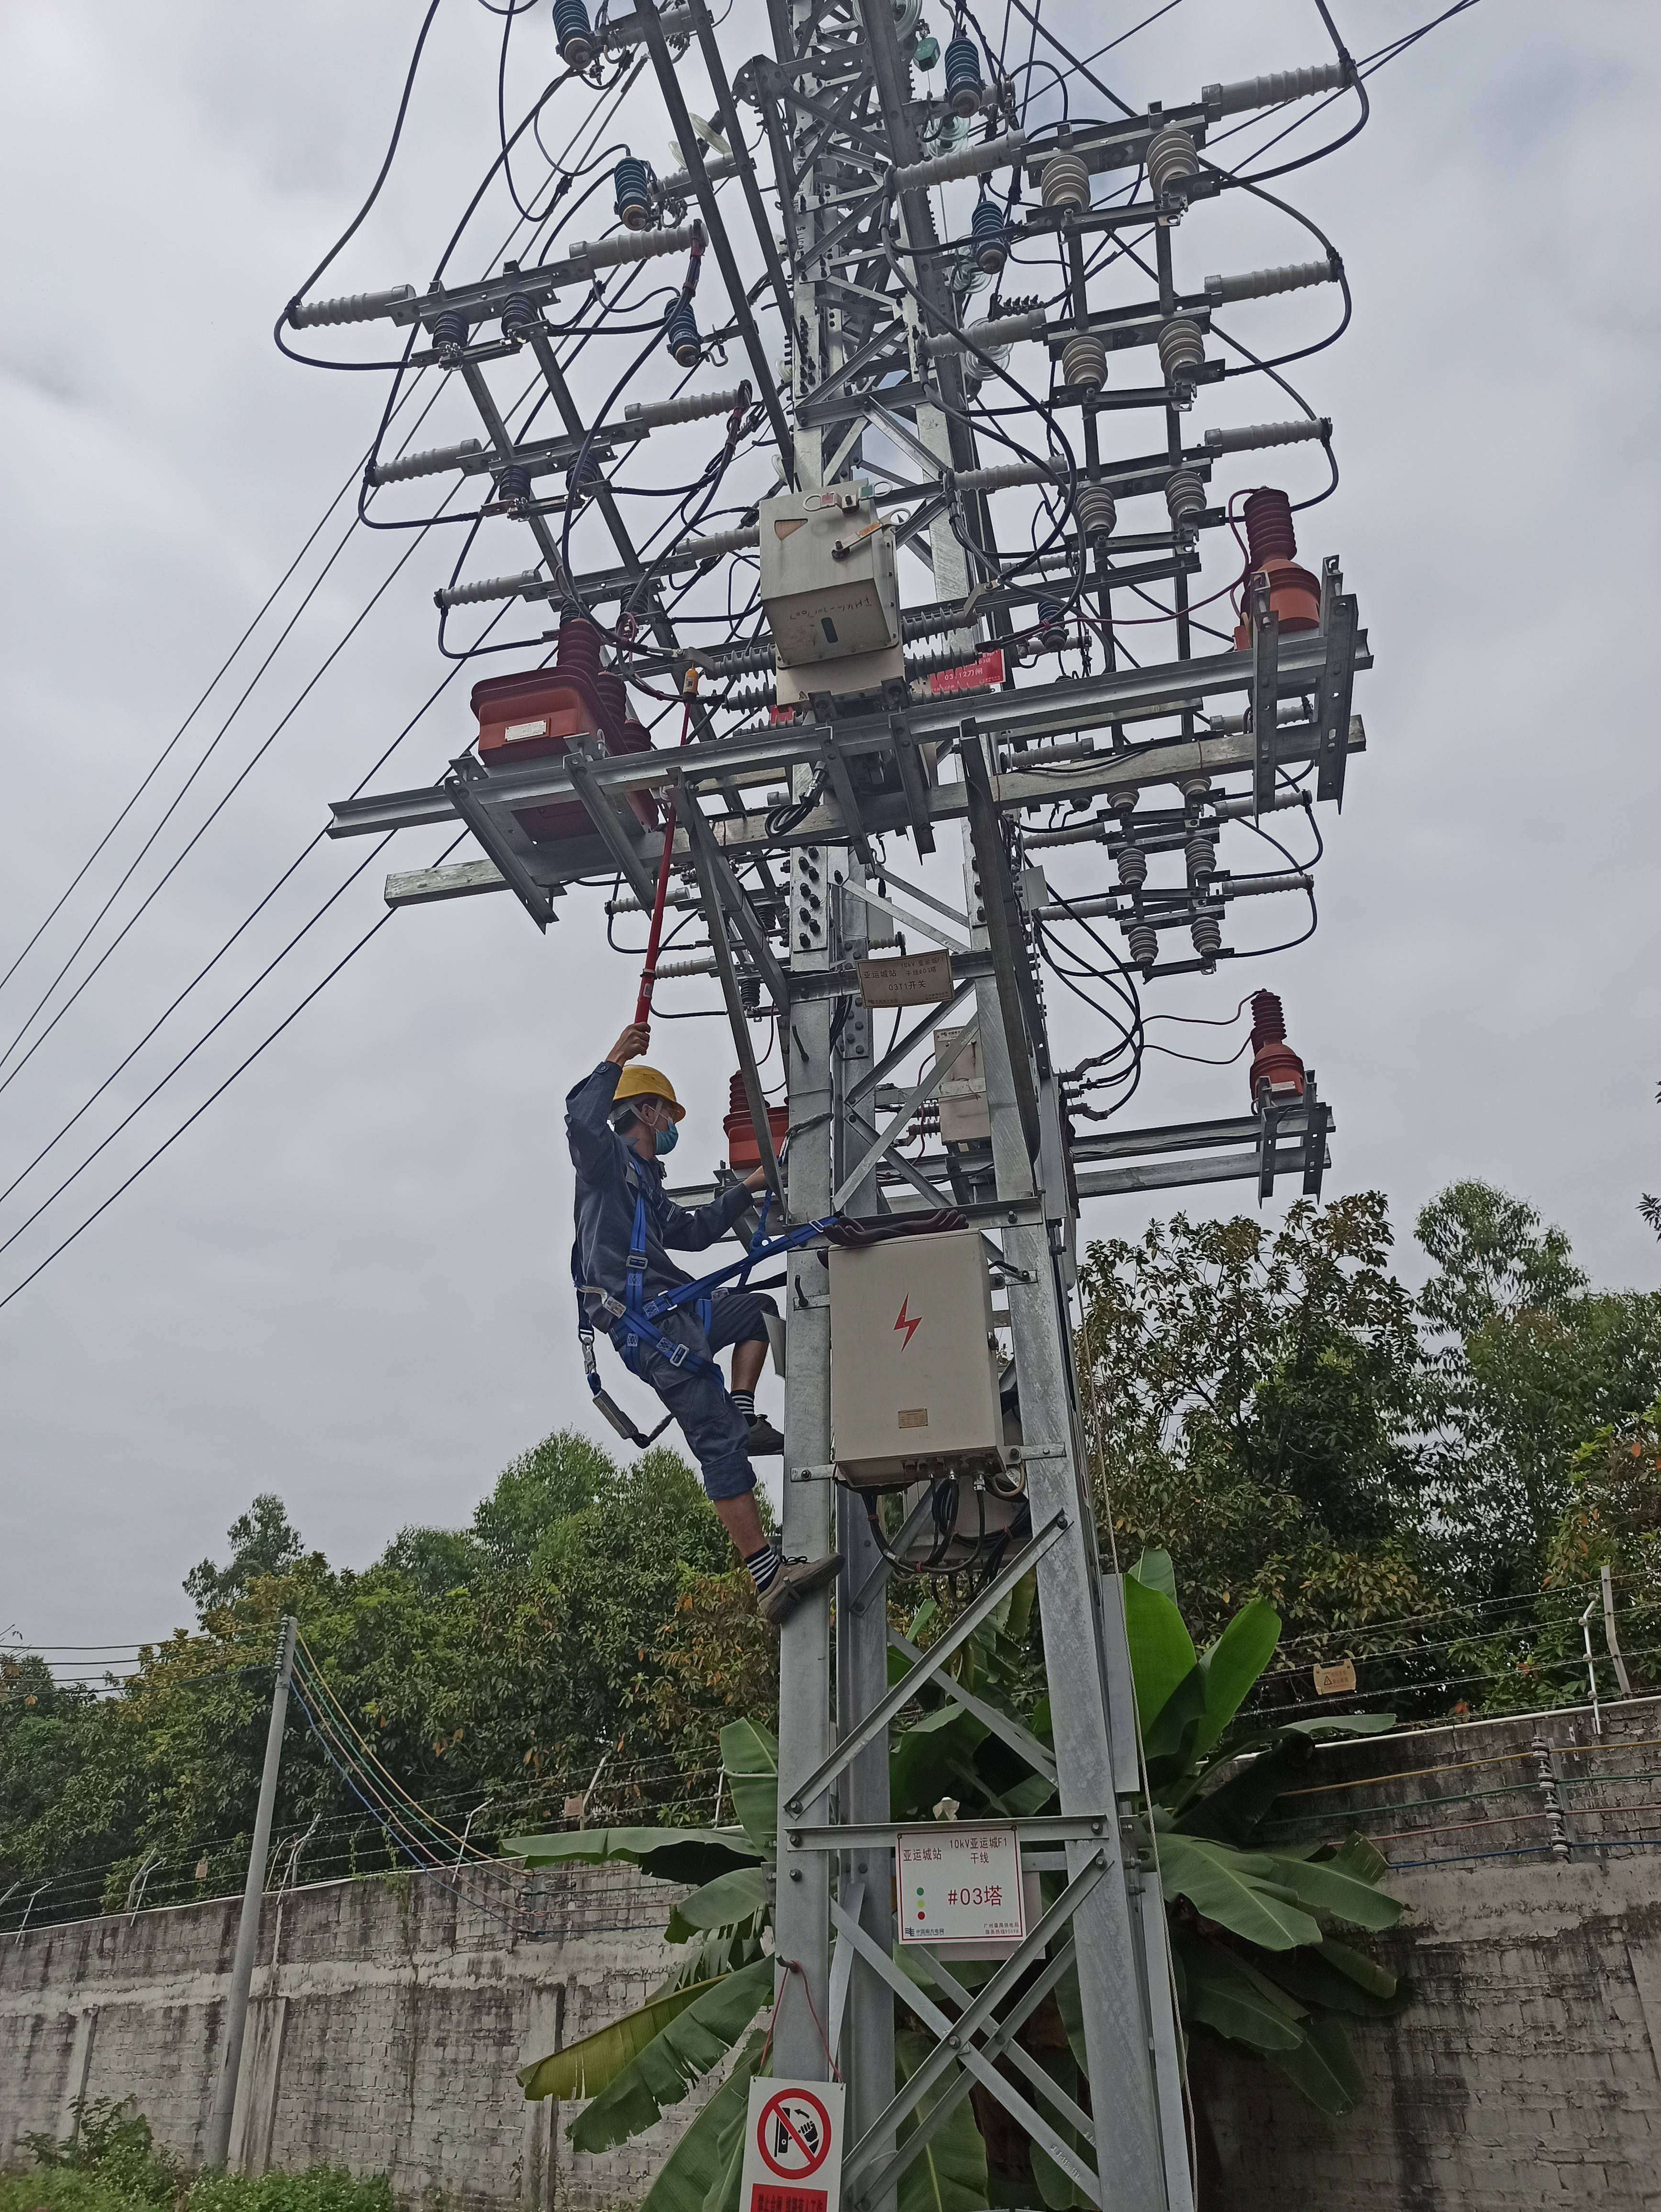downsuit: (591, 1287, 783, 1509)
upsuit: (565, 1069, 748, 1286)
wrongbottom: (693, 1465, 789, 1601), (726, 1324, 773, 1410)
